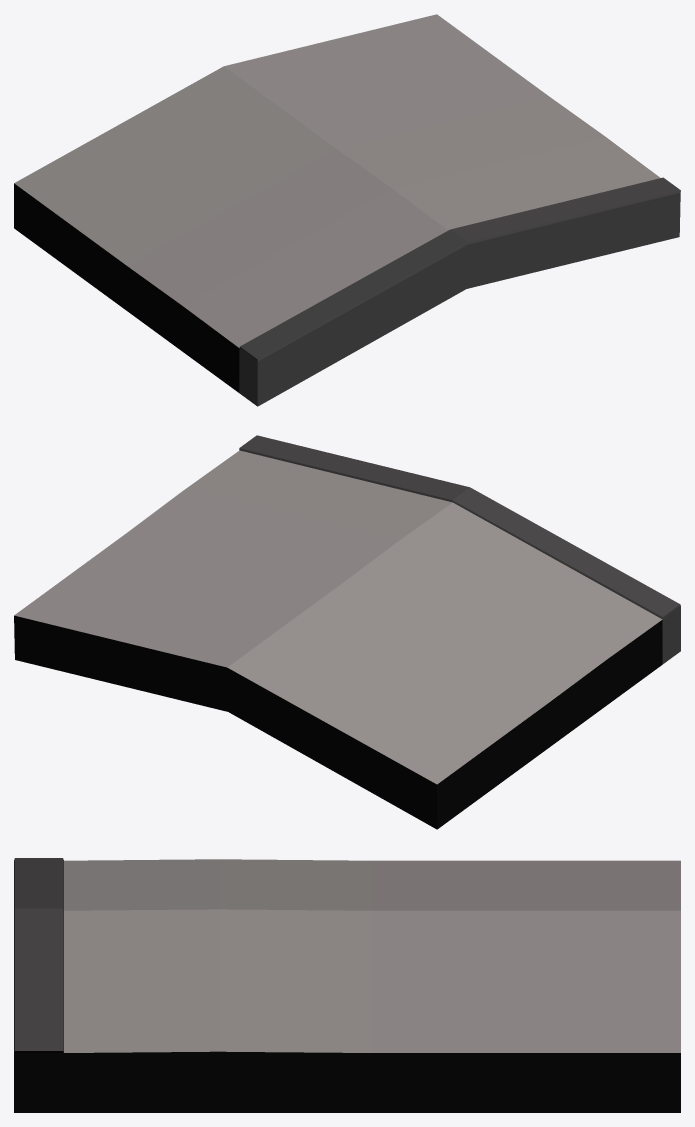
File: Pavement_Sloped_02.fbx
3 renders of one model, top to bottom at view 1: azimuth 30°, elevation 25°; view 2: azimuth 150°, elevation 25°; view 3: azimuth 270°, elevation 25°, orthographic. The views are drawn at different scales.
Parts seen in each view (by area): view 1: Pavement_Sloped_02; view 2: Pavement_Sloped_02; view 3: Pavement_Sloped_02.
Part boxes in pixels (bbox=[...]): Pavement_Sloped_02: bbox=[14, 14, 680, 406]; Pavement_Sloped_02: bbox=[14, 435, 680, 829]; Pavement_Sloped_02: bbox=[14, 858, 680, 1112].
Size of the model in its own units: 201 by 51.05 by 200.
